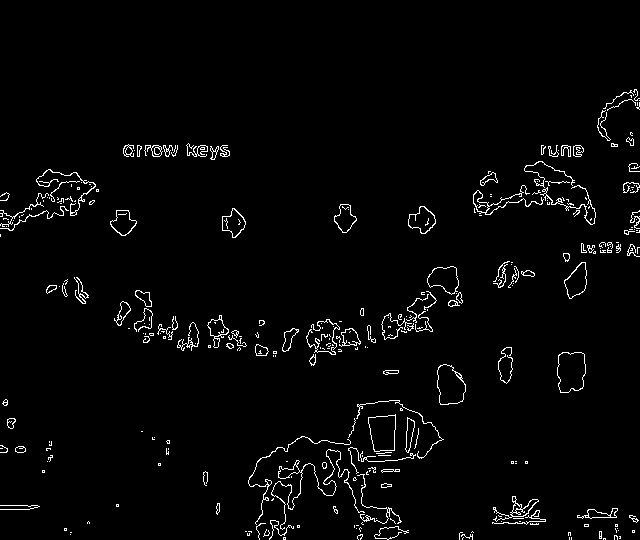down: (329, 198, 369, 240), (105, 203, 141, 244)
right: (213, 205, 257, 245), (402, 200, 441, 240)
